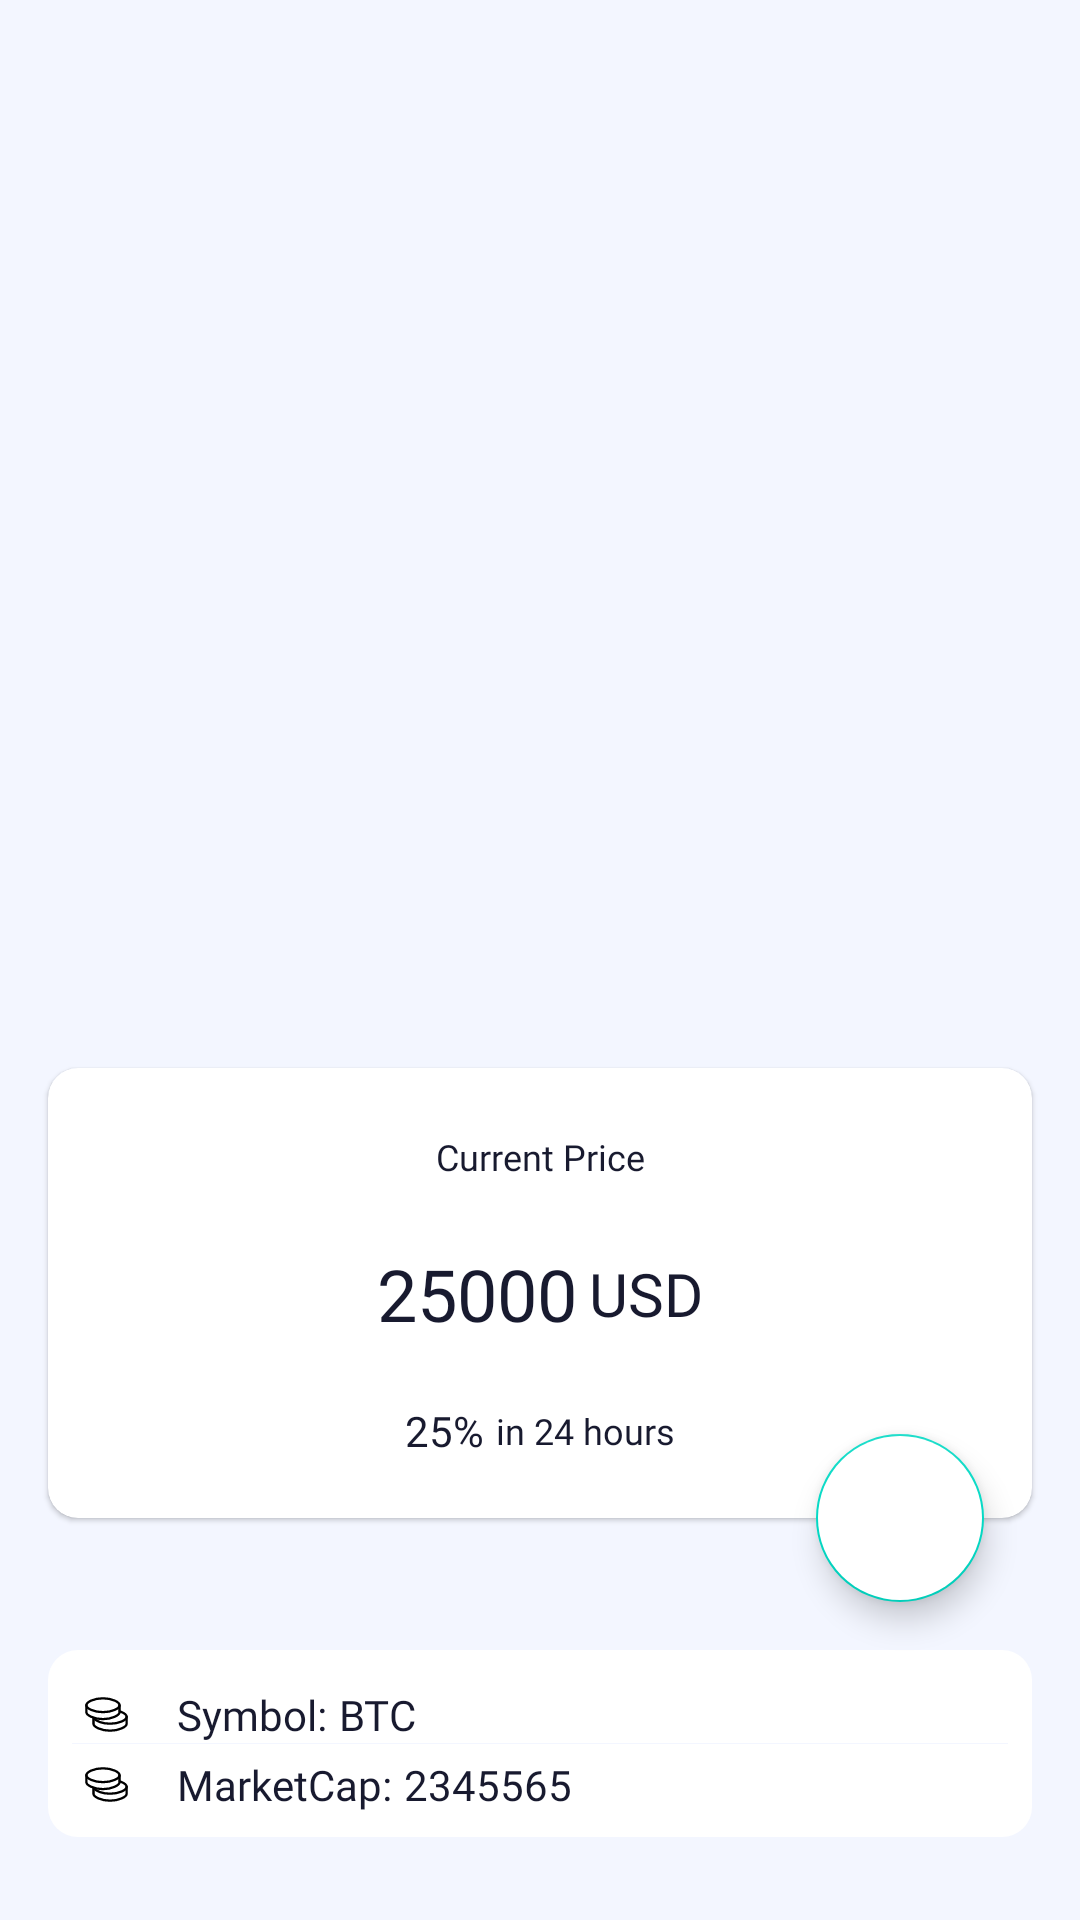

Locate icon controls on the screen. Image size 1080 x 1920, boxes as Rect(x1, y1, x2, y2).
coins: Rect(85, 1697, 128, 1732), Rect(85, 1767, 128, 1802)
